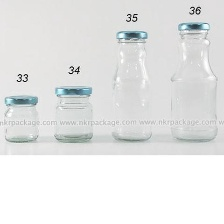bottle: (164, 20, 221, 145), (107, 28, 156, 144), (49, 84, 99, 145), (0, 93, 42, 146)
